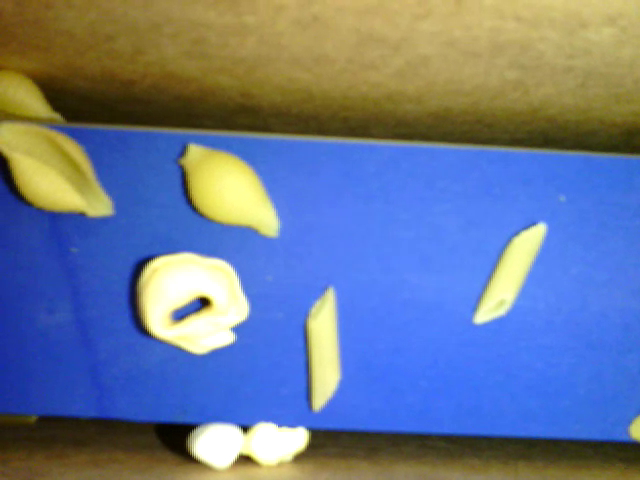penne: (470, 220, 548, 329), (303, 286, 347, 413)
shell: (1, 124, 116, 223), (177, 140, 280, 243), (1, 70, 71, 127)
tortellini: (135, 251, 251, 356)
